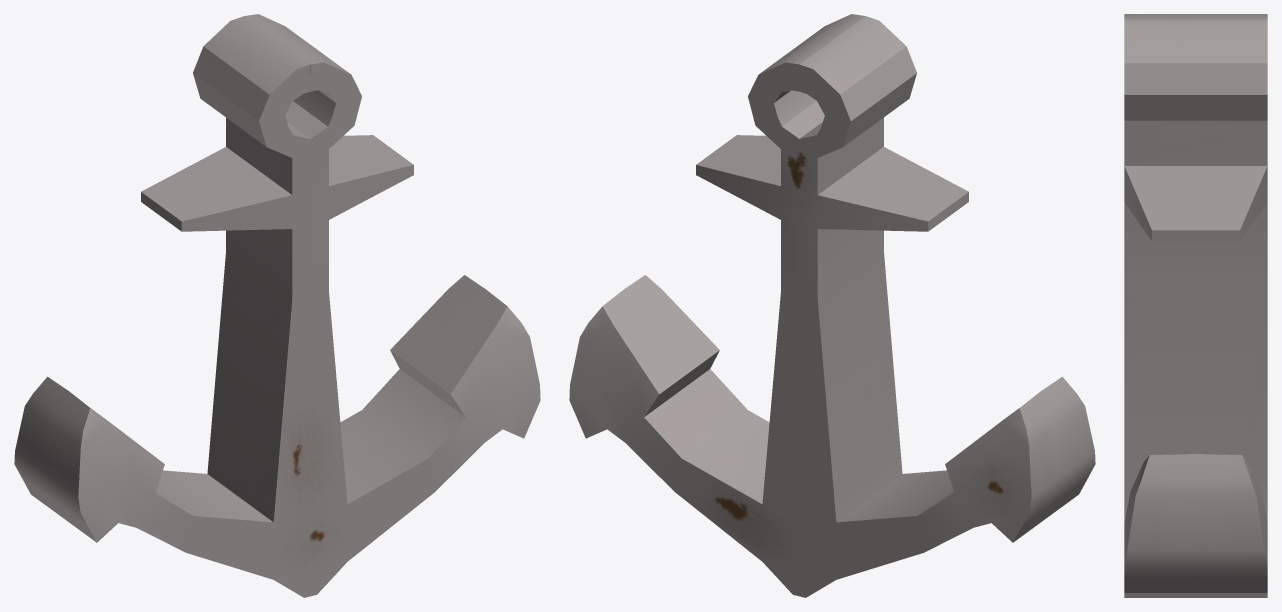
The model's file is Anchor.fbx.
3 views of the same model, side by side, from view 1: azimuth 30°, elevation 25°; view 2: azimuth 150°, elevation 25°; view 3: azimuth 270°, elevation 25° (orthographic). The views are drawn at different scales.
Parts seen in each view (by area): view 1: Cube; view 2: Cube; view 3: Cube.
Boxes of the visible parts, <box> form: Cube: <box>14,14,540,597</box>; Cube: <box>569,14,1095,597</box>; Cube: <box>1124,14,1267,597</box>.
Size of the model in its own units: 805 by 887 by 200.
Materials: 1 (1 with a texture image).
